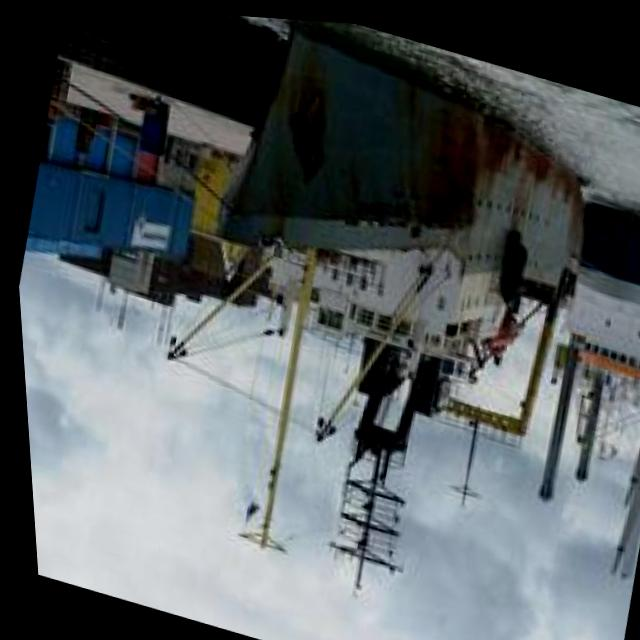ship2: (154, 29, 580, 570)
